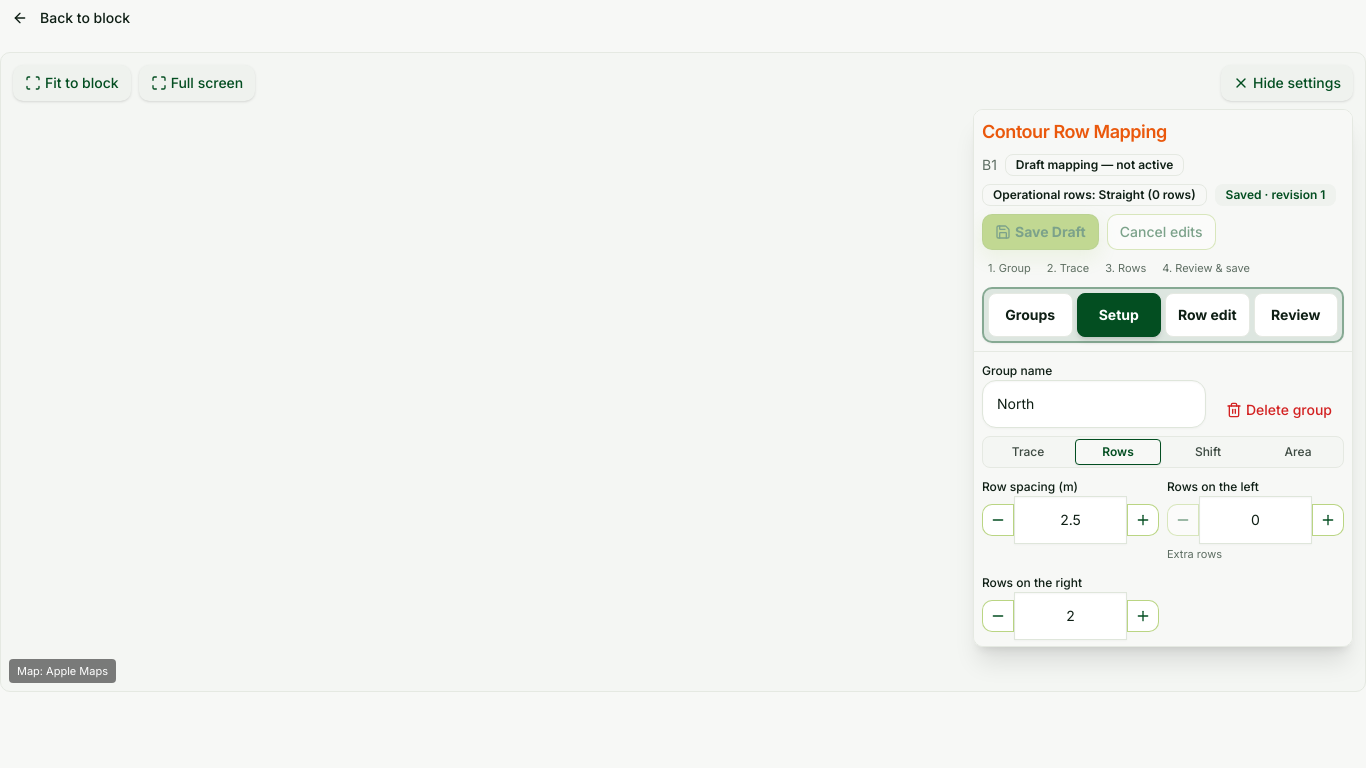
Test: setup sub-tabs › existing traced group opens on Rows; Add row group opens Trace with Start trace
The width and height of the screenshot is (1366, 768).
Click the tab "Groups".
click(1030, 314)  # box [988,292,1072,336]
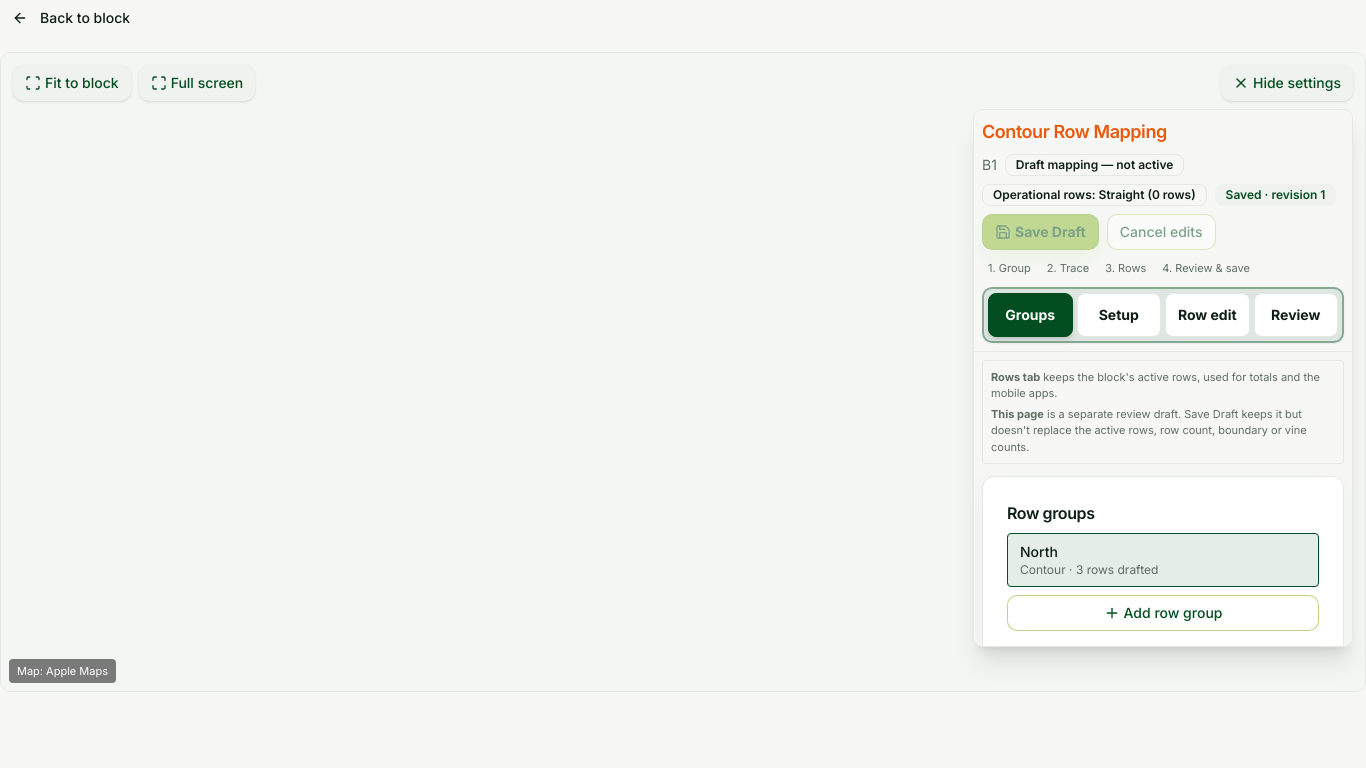
Click the button "Add row group".
click(1163, 613)  # box [1007,595,1319,631]
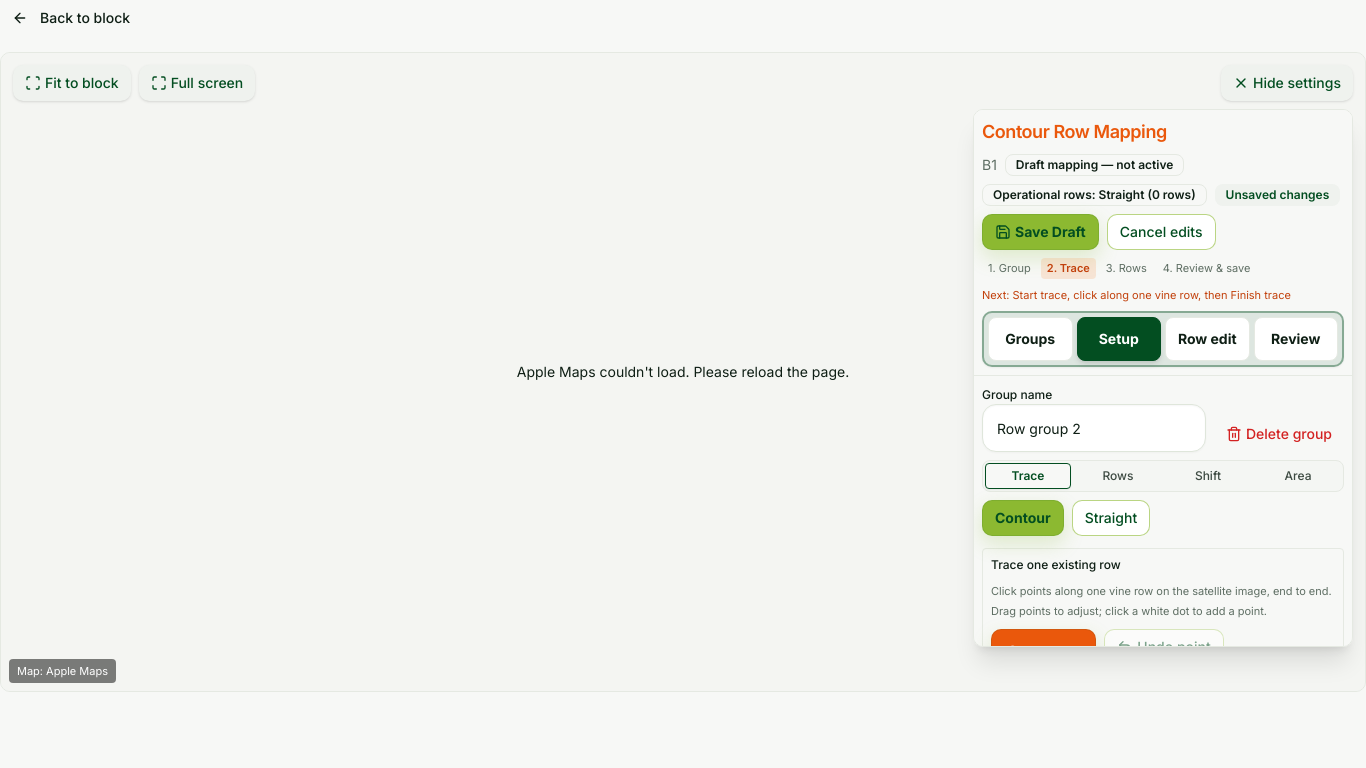
Check: the tab "Setup" is selected, box [1076,317,1161,361]
Check: the tab "Trace" is selected, box [985,463,1071,489]
